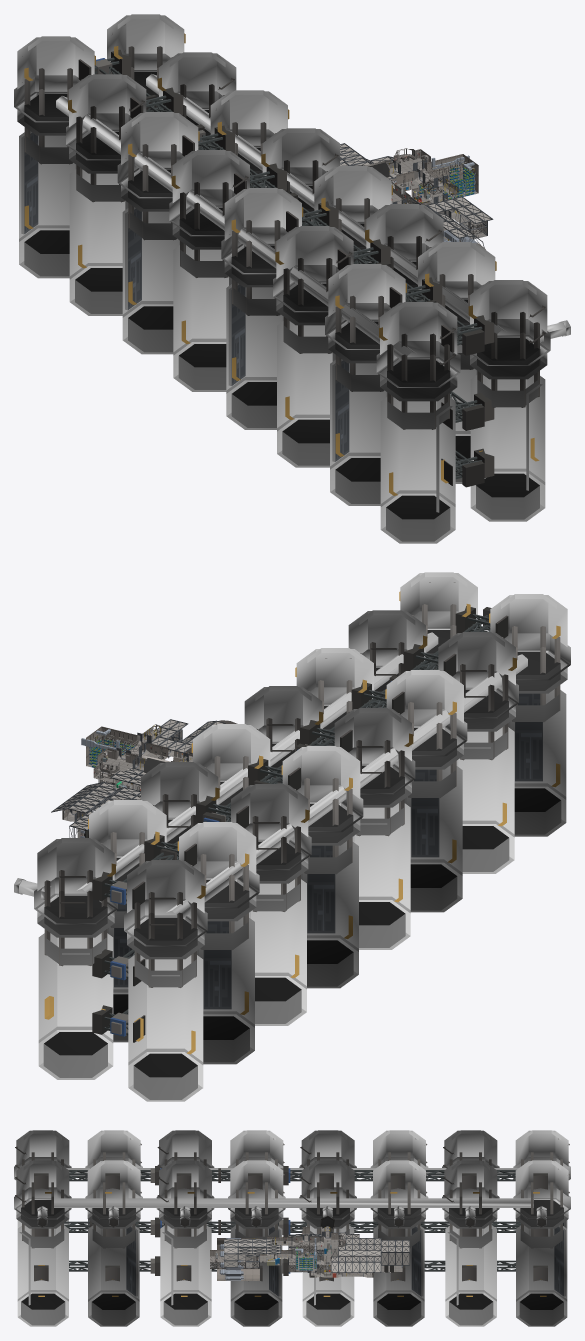
The model's file is ship.glb.
3 renders of one model, top to bottom at view 1: azimuth 30°, elevation 25°; view 2: azimuth 150°, elevation 25°; view 3: azimuth 270°, elevation 25°, orthographic. The views are drawn at different scales.
Parts seen in each view (by area): view 1: outside:StationTank.015, outside:StationTank.014, outside:StationTank.007, outside:StationTank.002, outside:StationTank.011, outside:StationTank, outside:StationTank.009, outside:StationTank.005, outside:StationTank.013, outside:StationTank.012, outside:StationDock.010, outside:StationTank.001 (+18 smaller); view 2: outside:StationTank.002, outside:StationTank.001, outside:StationTank.015, outside:StationTank, outside:StationTank.013, outside:StationTank.007, outside:StationTank.011, outside:StationTank.005, outside:StationTank.009, outside:StationTank.003, outside:StationDock.010, outside:StationTank.014 (+18 smaller); view 3: outside:StationTank.014, outside:StationTank.001, outside:StationTank.003, outside:StationTank.012, outside:StationTank.004, outside:StationTank.010, outside:StationTank.006, outside:StationTank.008, outside:StationDock.009, outside:StationTank.002, outside:StationTank.015, outside:StationTank.013 (+24 smaller).
Part boxes in pixels (x1,y1,x2,y2): outside:StationTank.015: (376,302,460,543); outside:StationTank.014: (468,280,550,521); outside:StationTank.007: (169,150,249,391); outside:StationTank.002: (14,36,95,278); outside:StationTank.011: (66,74,146,315); outside:StationTank: (273,226,353,467); outside:StationTank.009: (117,112,199,354); outside:StationTank.005: (221,188,303,429); outside:StationTank.013: (325,264,406,505); outside:StationTank.012: (415,242,496,483); outside:StationDock.010: (56,96,416,360); outside:StationTank.001: (107,14,185,97); outside:StationTank.002: (124,860,207,1101); outside:StationTank.001: (34,838,117,1079); outside:StationTank.015: (489,594,570,836); outside:StationTank: (385,670,467,912); outside:StationTank.013: (438,632,518,873); outside:StationTank.007: (281,746,363,988); outside:StationTank.011: (177,822,259,1064); outside:StationTank.005: (334,708,415,949); outside:StationTank.009: (231,784,311,1025); outside:StationTank.003: (88,800,166,1042); outside:StationDock.010: (166,654,527,918); outside:StationTank.014: (399,572,477,669); outside:StationTank.014: (14,1160,71,1326); outside:StationTank.001: (513,1160,570,1326); outside:StationTank.003: (442,1160,499,1326); outside:StationTank.012: (85,1160,142,1326); outside:StationTank.004: (156,1160,214,1326); outside:StationTank.010: (370,1160,428,1326); outside:StationTank.006: (228,1160,285,1326); outside:StationTank.008: (299,1160,356,1326); outside:StationDock.009: (54,1198,533,1207); outside:StationTank.002: (513,1130,570,1228); outside:StationTank.015: (14,1130,71,1228); outside:StationTank.013: (85,1130,142,1227).
Size of what is drawn, in the model's own units: 157 by 116 by 390.
1 material, 1 textured.
